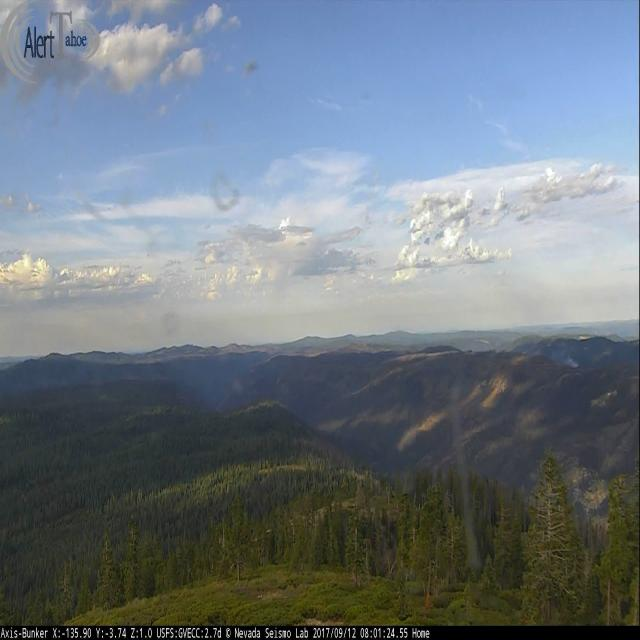smoke: (550, 347, 580, 366)
